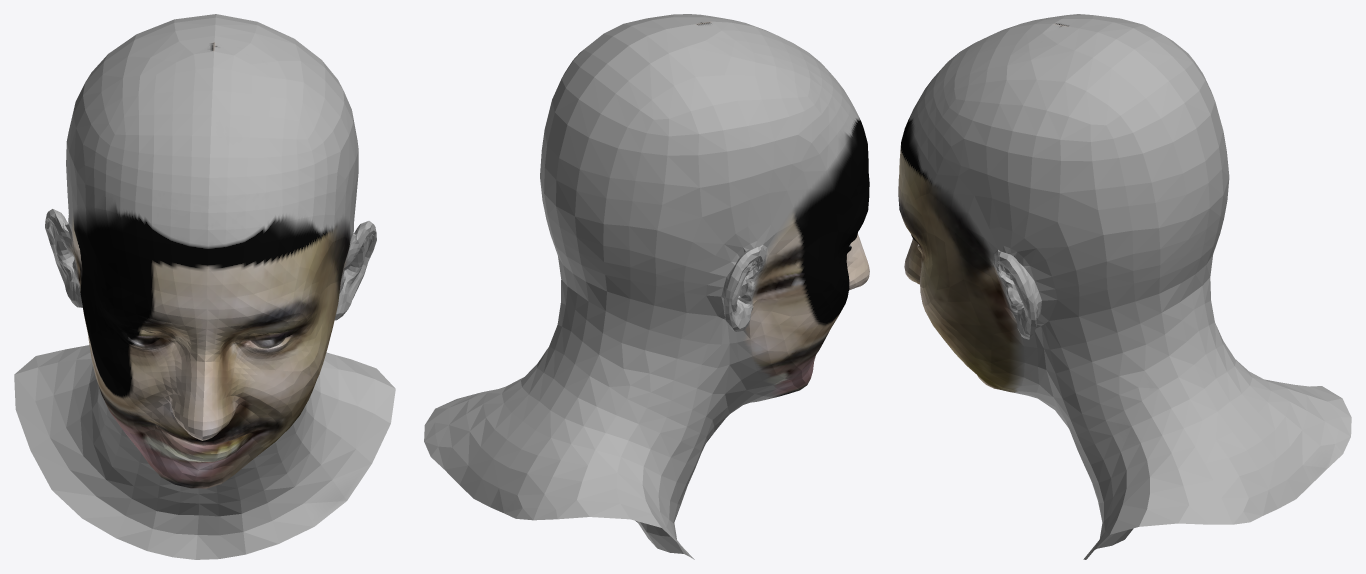
Rendered from ezgif-frame-084.obj.
The picture shows the model from 3 angles, left to right: view 1: azimuth 30°, elevation 25°; view 2: azimuth 150°, elevation 25°; view 3: azimuth 270°, elevation 25°; orthographic projection. The views are drawn at different scales.
Size of the model in its own units: 0.225 by 0.3235 by 0.2608.
1 material, 1 textured.
